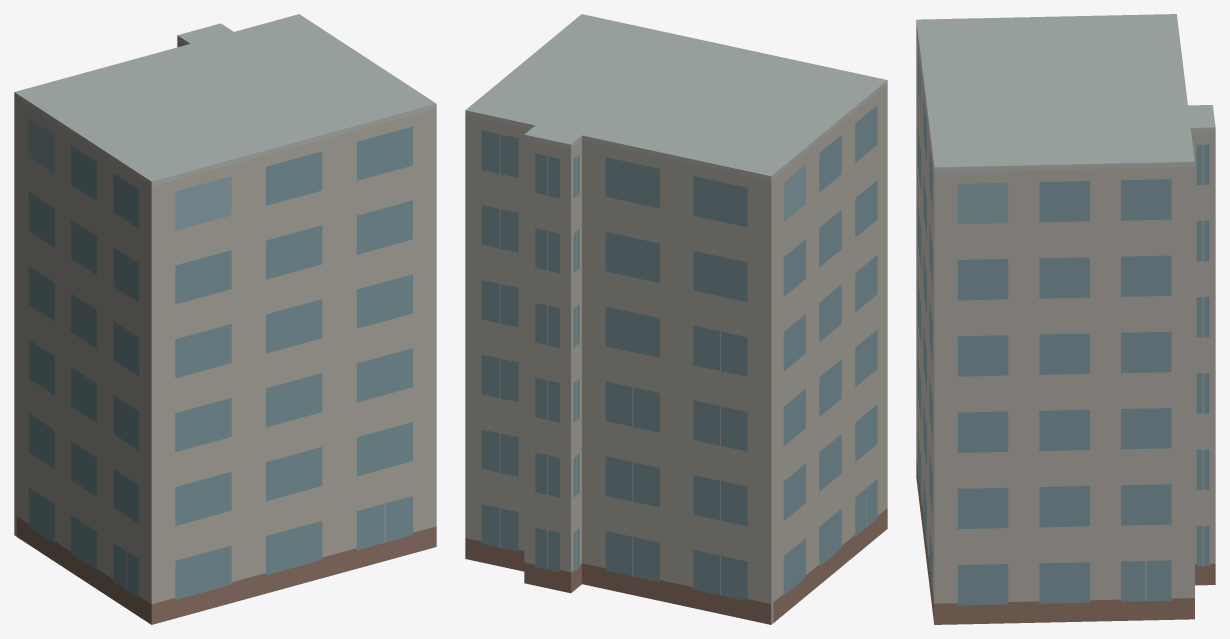
Rendered from survey-upis-32739714.glb.
The picture shows the model from 3 angles, left to right: view 1: azimuth 30°, elevation 25°; view 2: azimuth 150°, elevation 25°; view 3: azimuth 270°, elevation 25°; orthographic projection. The views are drawn at different scales.
Parts seen in each view (by area): view 1: survey-upis-32739714.tmp; view 2: survey-upis-32739714.tmp; view 3: survey-upis-32739714.tmp.
Boxes of the visible parts, x1,y1,x2,y2 form: survey-upis-32739714.tmp: (14, 14, 436, 624); survey-upis-32739714.tmp: (465, 14, 887, 624); survey-upis-32739714.tmp: (916, 14, 1215, 624).
Size of the model in its own units: 16.27 by 22.6 by 13.41.
